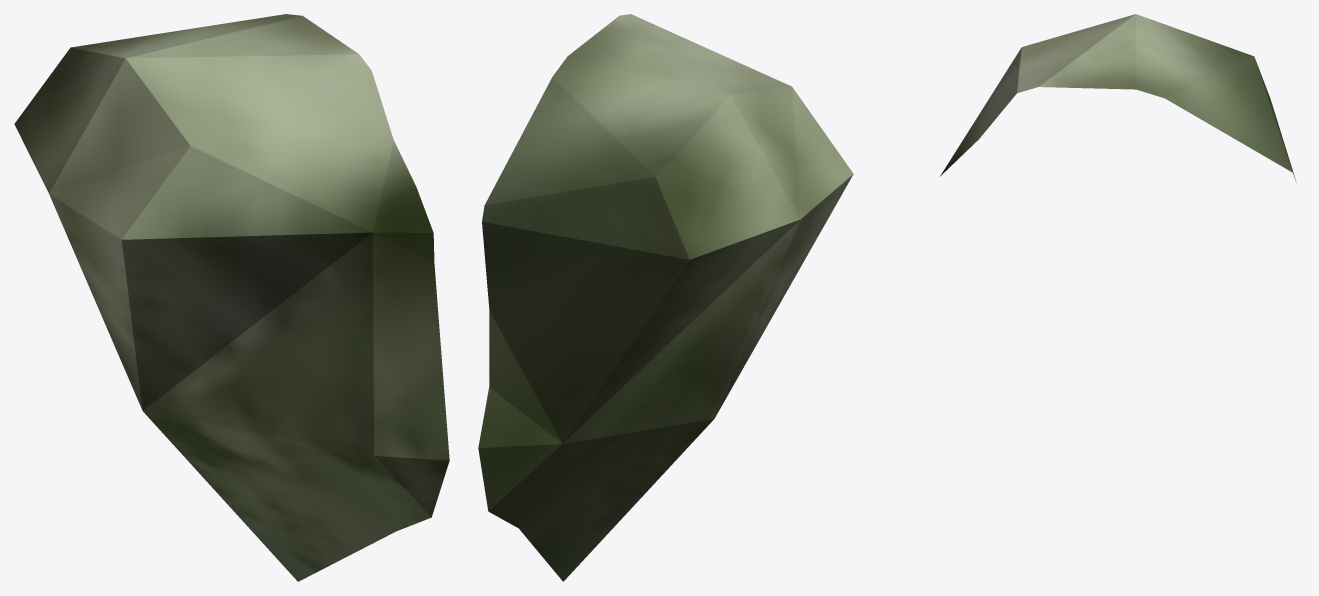
The picture shows the model from 3 angles, left to right: view 1: azimuth 30°, elevation 25°; view 2: azimuth 150°, elevation 25°; view 3: azimuth 270°, elevation 25°; orthographic projection. The views are drawn at different scales.
Bounding box in the file's own units: 0.1678 × 0.3617 × 0.2797.
1 material, 1 textured.
